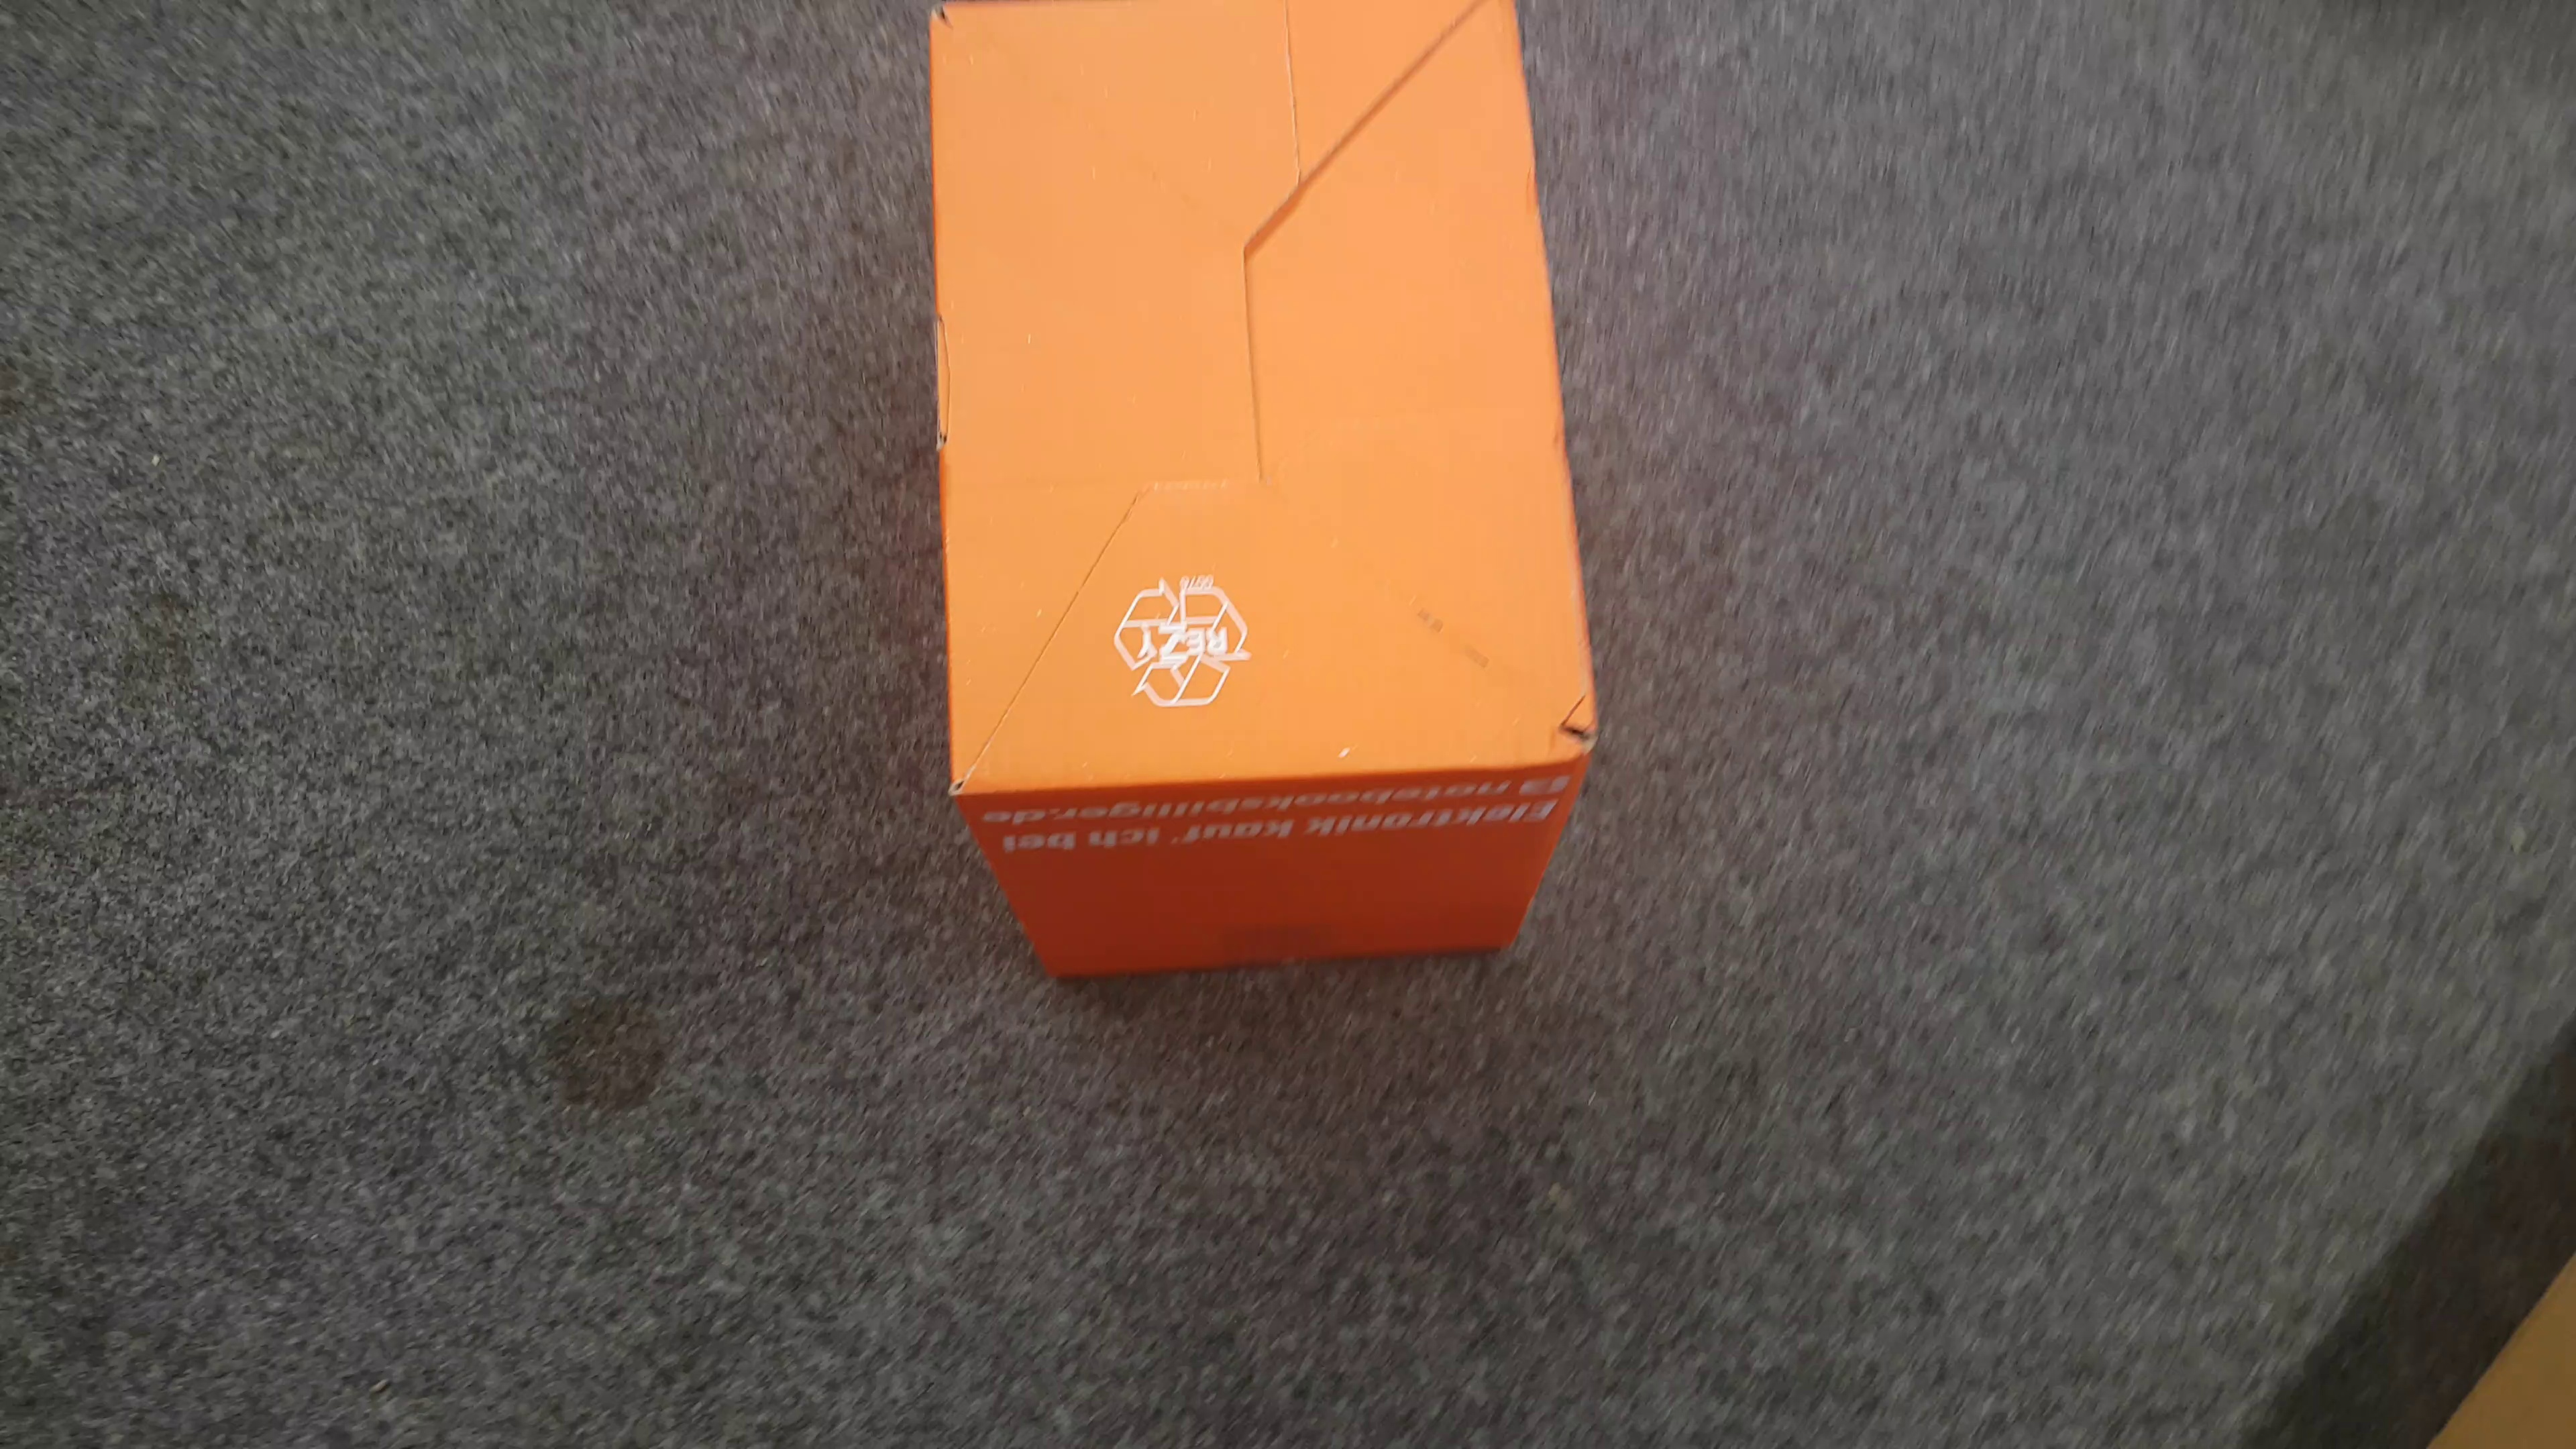push: (920, 14, 1606, 989)
